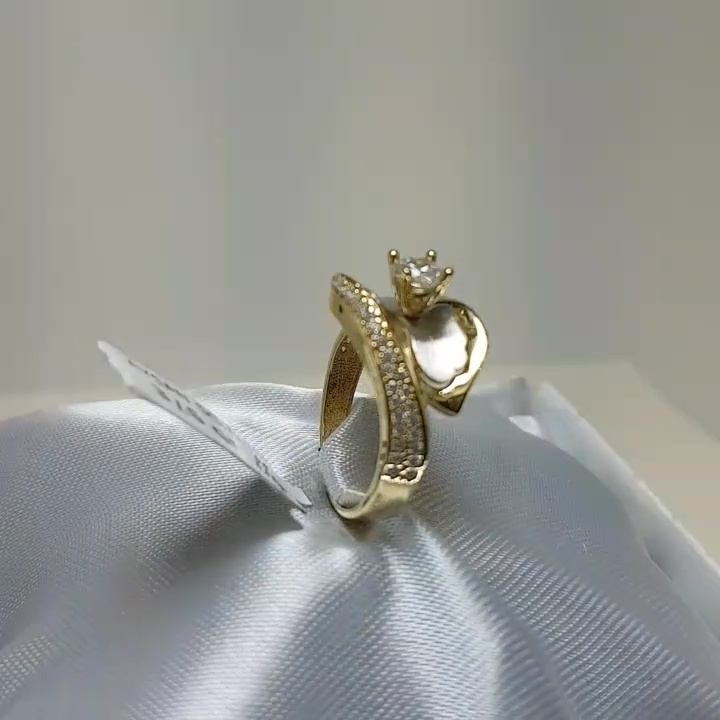Ring 6: (270, 242, 500, 539)
